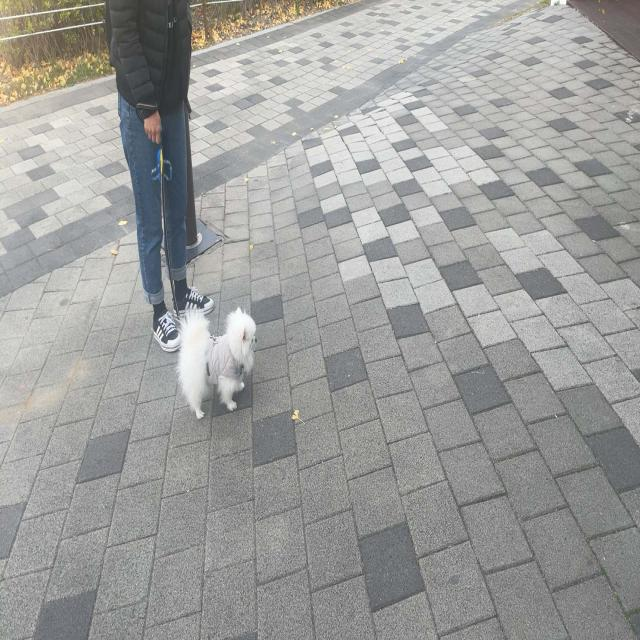Leashed_Dog: (144, 112, 258, 418)
